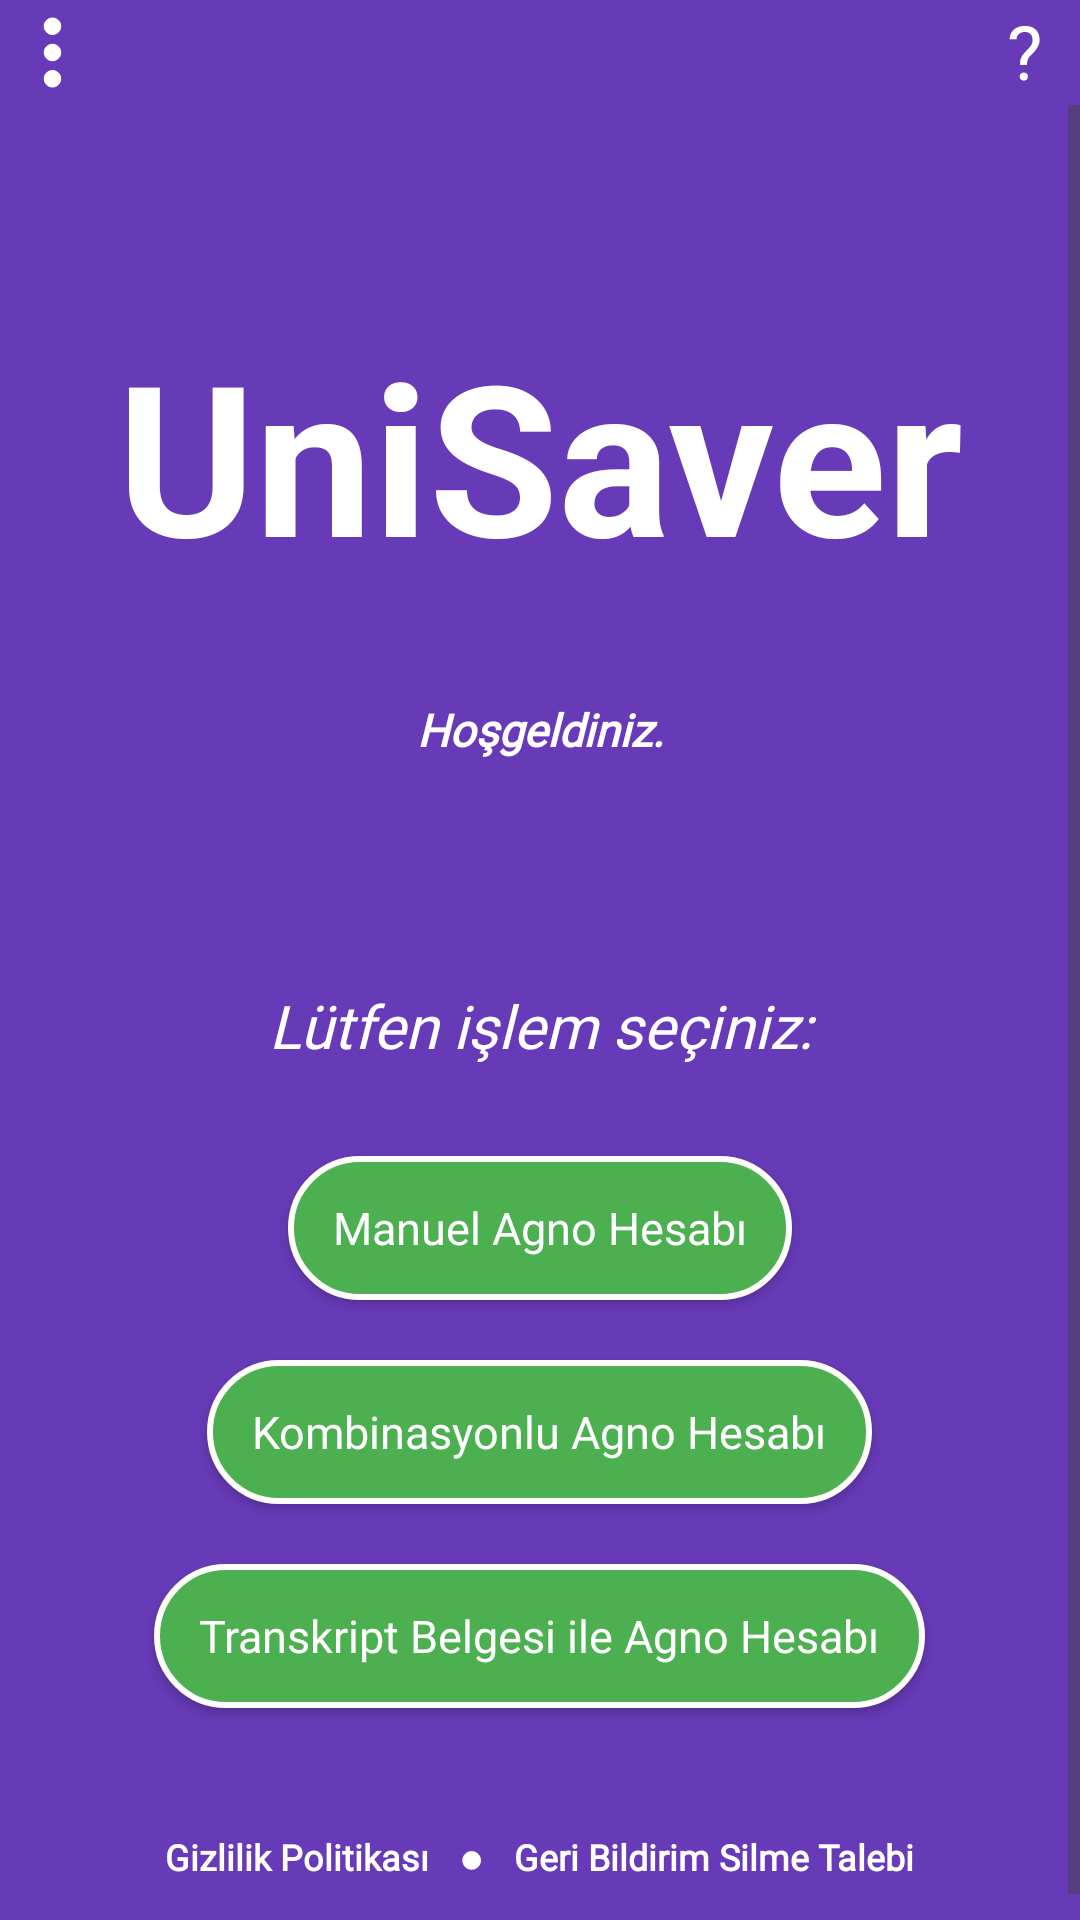

Icons on this 1080×1920 Android screen, each with its box as (x1, y1, x2, y2):
vert: (43, 17, 62, 88)
